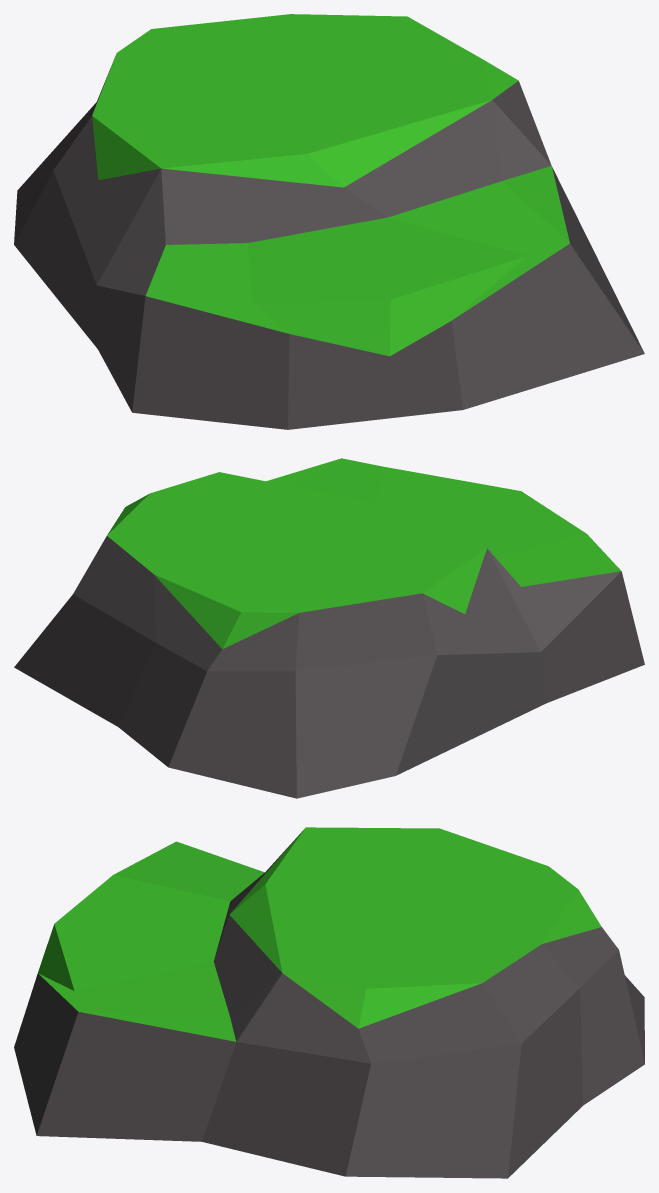
Rendered from mountain_m2.fbx.
The picture shows the model from 3 angles, top to bottom: view 1: azimuth 30°, elevation 25°; view 2: azimuth 150°, elevation 25°; view 3: azimuth 270°, elevation 25°; orthographic projection. The views are drawn at different scales.
Visible parts, largest first — view 1: Circle.002; view 2: Circle.002; view 3: Circle.002.
Boxes of the visible parts, x1,y1,x2,y2 form: Circle.002: (14,14,644,429); Circle.002: (14,458,644,798); Circle.002: (14,827,644,1178).
Bounding box in the file's own units: 1922 × 558 × 2083.
